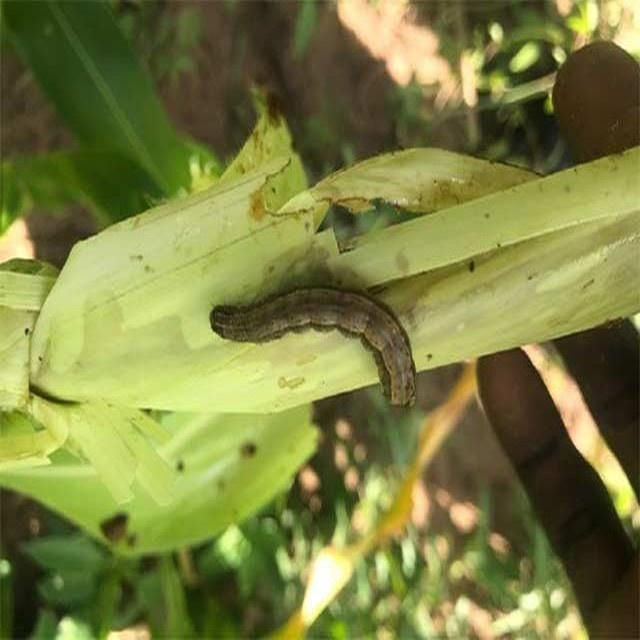gusano_cogollero: (212, 286, 412, 412)
